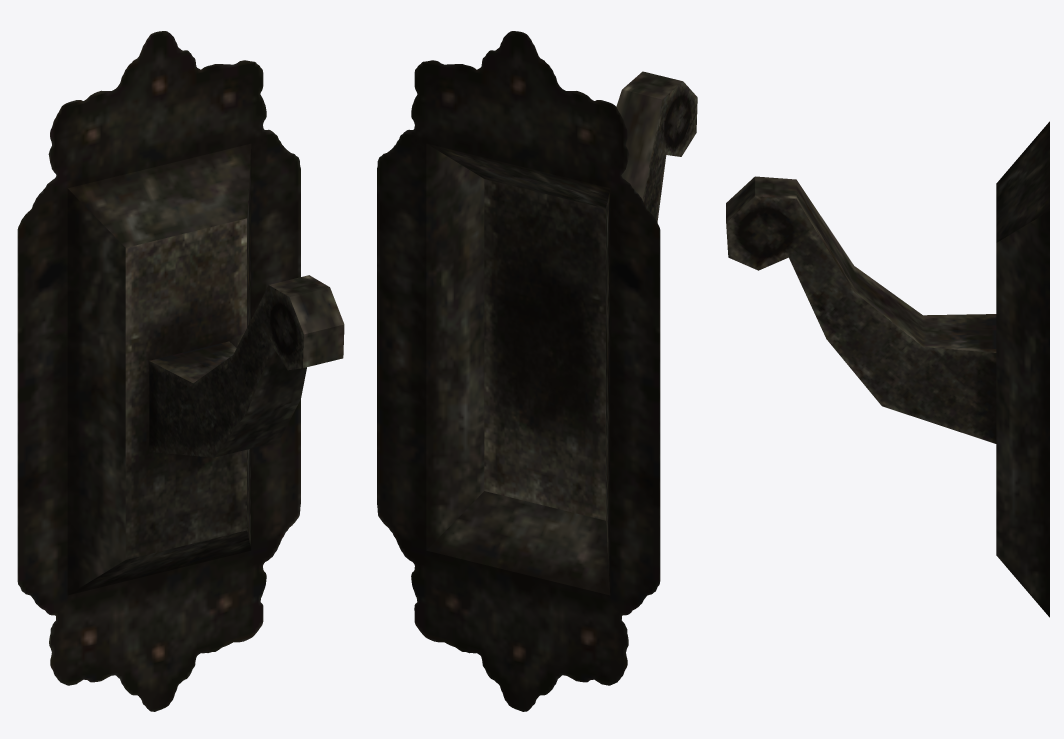
Rendered from clothes_hook.dae.
3 views of the same model, side by side, from view 1: azimuth 30°, elevation 25°; view 2: azimuth 150°, elevation 25°; view 3: azimuth 270°, elevation 25° (orthographic).
Visible parts, largest first — view 1: polySurface1; view 2: polySurface1; view 3: polySurface1.
Boxes of the visible parts, <box> form: polySurface1: <box>17,31,344,711</box>; polySurface1: <box>377,31,697,711</box>; polySurface1: <box>726,121,1049,617</box>.
Bounding box in the file's own units: 0.1547 × 0.3624 × 0.1496.
